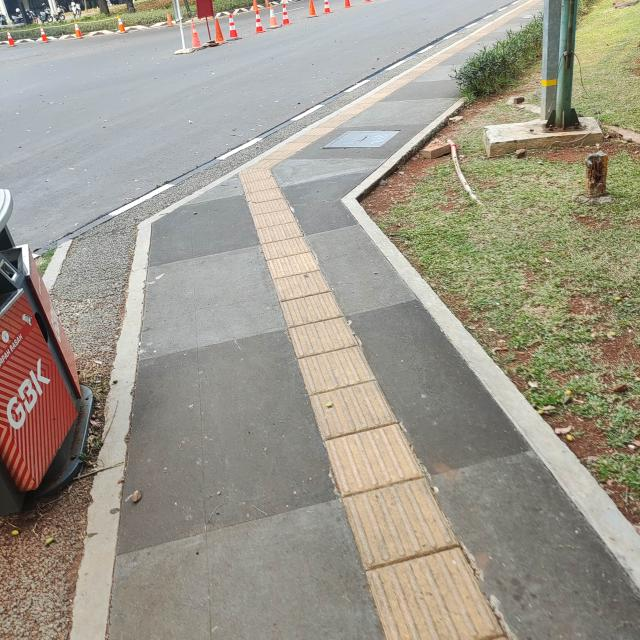lurus: (246, 207, 464, 640)
